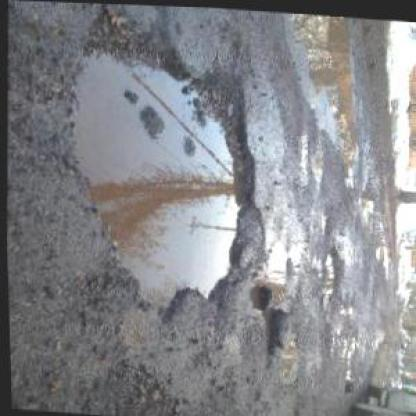pothole: (62, 17, 269, 326), (318, 247, 341, 297), (266, 237, 290, 283), (277, 337, 298, 384)
